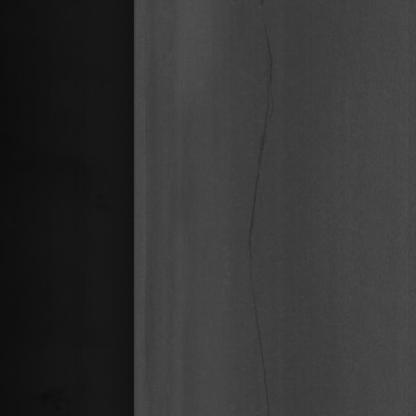water_spot: (244, 21, 291, 381)
